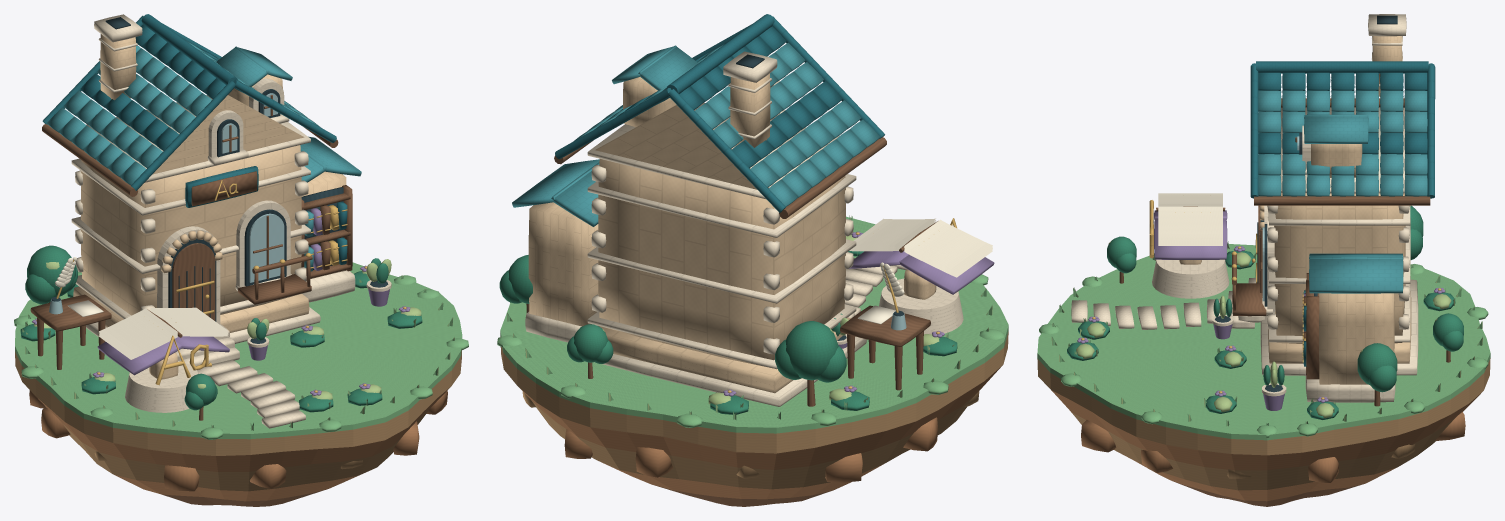
Rendered from language-world.glb.
3 views of the same model, side by side, from view 1: azimuth 30°, elevation 25°; view 2: azimuth 150°, elevation 25°; view 3: azimuth 270°, elevation 25° (orthographic). The views are drawn at different scales.
Visible parts, largest first — view 1: language-world_Soft meadow grass and rim moss, language-world_Warm cream library masonry, language-world_Ivory bevelled plinth paths and carved frames, language-world_Individually glazed teal roof panels, language-world_Sunlit pale cliff shelves, language-world_Walnut door planks shelves and quill desk, language-world_Warm weathered sandstone cliff, language-world_Dark teal eaves and ridge caps, language-world_Sculpted jade canopy and garden leaves, language-world_Warm ivory sculpted book paper, language-world_Deep door window and shelf recess, language-world_Dusty lavender book covers and blossoms (+4 smaller); view 2: language-world_Warm cream library masonry, language-world_Soft meadow grass and rim moss, language-world_Ivory bevelled plinth paths and carved frames, language-world_Sunlit pale cliff shelves, language-world_Individually glazed teal roof panels, language-world_Warm weathered sandstone cliff, language-world_Dark teal eaves and ridge caps, language-world_Sculpted jade canopy and garden leaves, language-world_Warm ivory sculpted book paper, language-world_Walnut door planks shelves and quill desk, language-world_Dusty lavender book covers and blossoms, language-world_Sunlit sage leaf tips (+1 smaller); view 3: language-world_Soft meadow grass and rim moss, language-world_Individually glazed teal roof panels, language-world_Warm cream library masonry, language-world_Ivory bevelled plinth paths and carved frames, language-world_Sunlit pale cliff shelves, language-world_Warm weathered sandstone cliff, language-world_Dark teal eaves and ridge caps, language-world_Sculpted jade canopy and garden leaves, language-world_Walnut door planks shelves and quill desk, language-world_Warm ivory sculpted book paper, language-world_Dusty lavender book covers and blossoms, language-world_Sunlit sage leaf tips (+3 smaller).
Part boxes in pixels (x1,y1,x2,y2): language-world_Soft meadow grass and rim moss: (14,262,468,439); language-world_Warm cream library masonry: (73,34,346,379); language-world_Ivory bevelled plinth paths and carved frames: (71,14,391,428); language-world_Individually glazed teal roof panels: (47,41,361,271); language-world_Sunlit pale cliff shelves: (15,350,461,491); language-world_Walnut door planks shelves and quill desk: (30,95,352,420); language-world_Warm weathered sandstone cliff: (29,387,450,501); language-world_Dark teal eaves and ridge caps: (42,14,347,264); language-world_Sculpted jade canopy and garden leaves: (20,245,422,412); language-world_Warm ivory sculpted book paper: (55,257,228,359); language-world_Deep door window and shelf recess: (51,17,388,343); language-world_Dusty lavender book covers and blossoms: (32,208,410,395); language-world_Warm cream library masonry: (528,73,936,393); language-world_Soft meadow grass and rim moss: (497,215,1008,433); language-world_Ivory bevelled plinth paths and carved frames: (525,51,963,406); language-world_Sunlit pale cliff shelves: (500,331,1008,489); language-world_Individually glazed teal roof panels: (512,42,879,226); language-world_Warm weathered sandstone cliff: (519,365,1002,499); language-world_Dark teal eaves and ridge caps: (555,14,884,212); language-world_Sculpted jade canopy and garden leaves: (499,251,957,414); language-world_Warm ivory sculpted book paper: (849,218,992,324); language-world_Walnut door planks shelves and quill desk: (526,137,937,406); language-world_Dusty lavender book covers and blossoms: (723,231,994,396); language-world_Sunlit sage leaf tips: (507,216,992,418); language-world_Soft meadow grass and rim moss: (1037,241,1490,440); language-world_Individually glazed teal roof panels: (1258,76,1427,294); language-world_Warm cream library masonry: (1179,36,1411,384); language-world_Ivory bevelled plinth paths and carved frames: (1071,14,1418,402); language-world_Sunlit pale cliff shelves: (1037,358,1490,490); language-world_Warm weathered sandstone cliff: (1051,390,1480,501); language-world_Dark teal eaves and ridge caps: (1250,61,1435,366); language-world_Sculpted jade canopy and garden leaves: (1067,205,1463,419); language-world_Walnut door planks shelves and quill desk: (1119,98,1450,406); language-world_Warm ivory sculpted book paper: (1158,193,1222,245); language-world_Dusty lavender book covers and blossoms: (1077,210,1445,410); language-world_Sunlit sage leaf tips: (1051,240,1482,425).
Bounding box in the file's own units: 4.12 × 4.37 × 4.08.
Materials: 16 (16 with a texture image).
